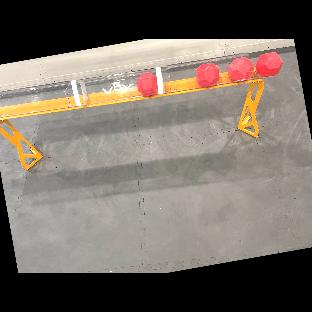Goal: (0, 52, 287, 121)
redingoal: (251, 48, 286, 80), (191, 58, 223, 89), (224, 54, 256, 84), (132, 71, 161, 98)
